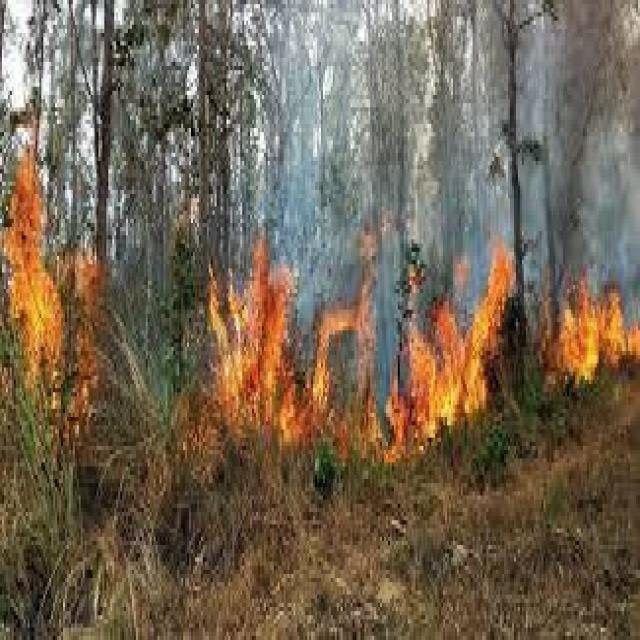Fire: (200, 238, 518, 462), (0, 114, 102, 424), (529, 265, 640, 422)
Smoke: (252, 3, 517, 296), (518, 1, 640, 285)
